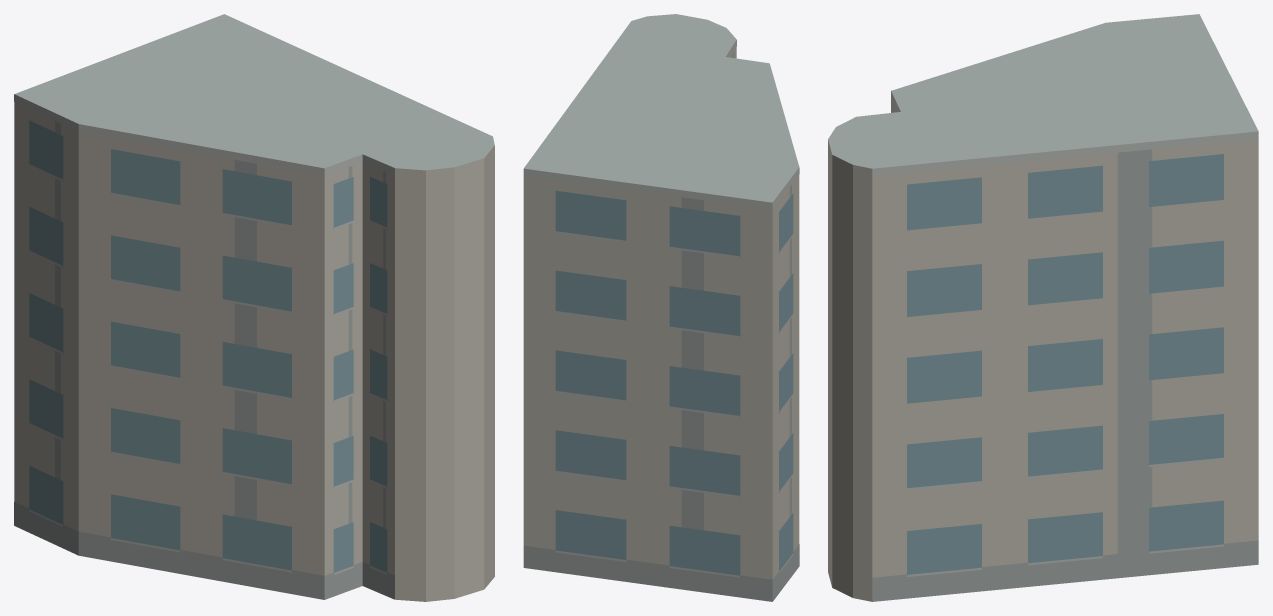
Rendered from survey-upis-33025835.glb.
3 views of the same model, side by side, from view 1: azimuth 30°, elevation 25°; view 2: azimuth 150°, elevation 25°; view 3: azimuth 270°, elevation 25° (orthographic). The views are drawn at different scales.
Parts seen in each view (by area): view 1: survey-upis-33025835.tmp; view 2: survey-upis-33025835.tmp; view 3: survey-upis-33025835.tmp.
Boxes of the visible parts, box(x1,y1,x2,y2) form: survey-upis-33025835.tmp: box(14, 14, 494, 601); survey-upis-33025835.tmp: box(523, 14, 799, 601); survey-upis-33025835.tmp: box(828, 14, 1258, 601).
Size of the model in its own units: 10.58 by 13.8 by 12.44.
